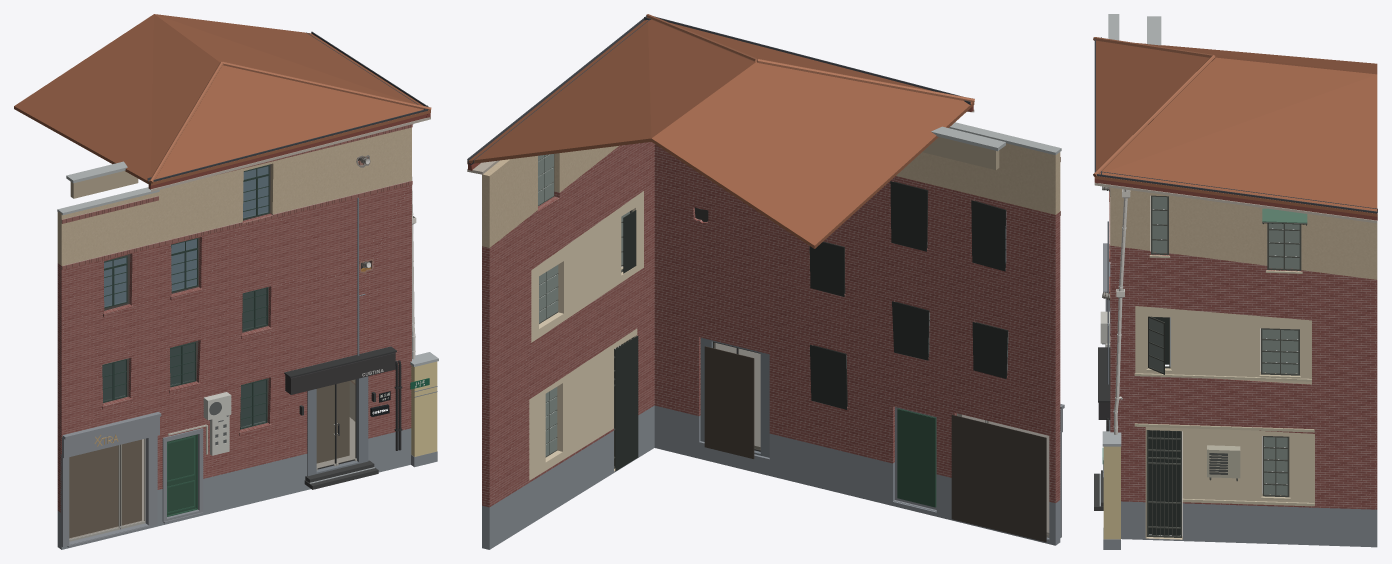
The model's file is lod-source.glb.
3 renders of one model, left to right at view 1: azimuth 30°, elevation 25°; view 2: azimuth 150°, elevation 25°; view 3: azimuth 270°, elevation 25°, orthographic. The views are drawn at different scales.
Visible parts, largest first — view 1: 新乐坊143-1号临街窗墙与弄口门柱; view 2: 新乐坊143-1号临街窗墙与弄口门柱; view 3: 新乐坊143-1号临街窗墙与弄口门柱.
Boxes of the visible parts, x1=… form: 新乐坊143-1号临街窗墙与弄口门柱: x1=14, y1=14, x2=438, y2=549; 新乐坊143-1号临街窗墙与弄口门柱: x1=467, y1=14, x2=1064, y2=549; 新乐坊143-1号临街窗墙与弄口门柱: x1=1093, y1=14, x2=1377, y2=549.
Size of the model in its own units: 12.04 by 12.13 by 7.58.
58 materials, 2 textured.
